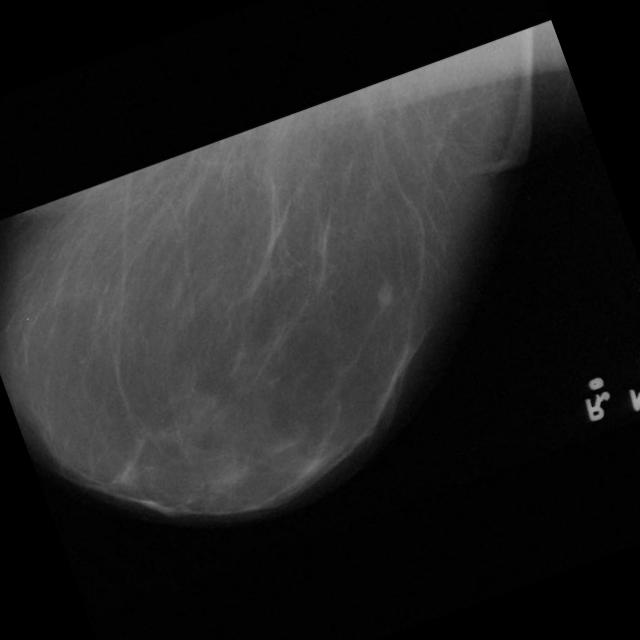SPIC: (359, 272, 408, 321)
